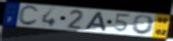2: (66, 10, 85, 31)
4: (41, 7, 58, 28)
5: (112, 12, 132, 34)
A: (84, 11, 108, 32)
C: (17, 5, 40, 27)
O: (131, 15, 157, 36)
